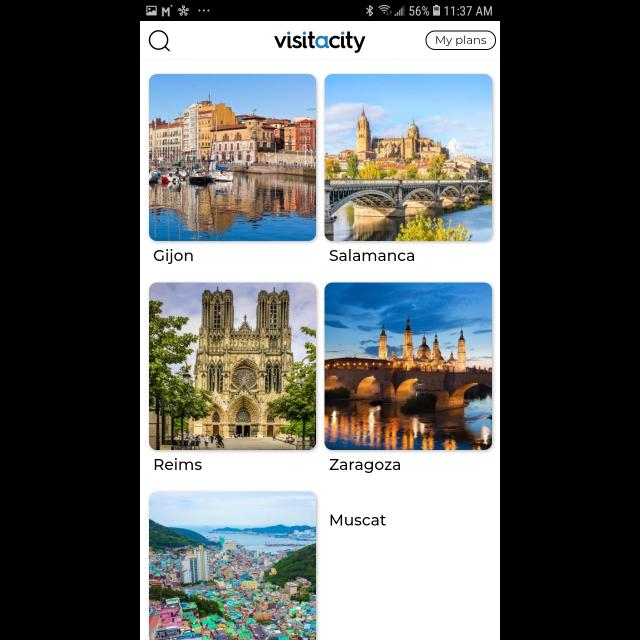icon: (149, 30, 171, 52)
image: (324, 282, 492, 450), (324, 75, 492, 242), (150, 284, 316, 451), (150, 75, 316, 242), (150, 492, 316, 640), (274, 32, 366, 54)
text: (330, 248, 414, 262), (330, 458, 400, 474), (330, 514, 386, 526), (156, 458, 202, 470), (154, 250, 193, 264)
textbutton: (424, 30, 496, 50)
uppertaskbar: (140, 1, 500, 22)
